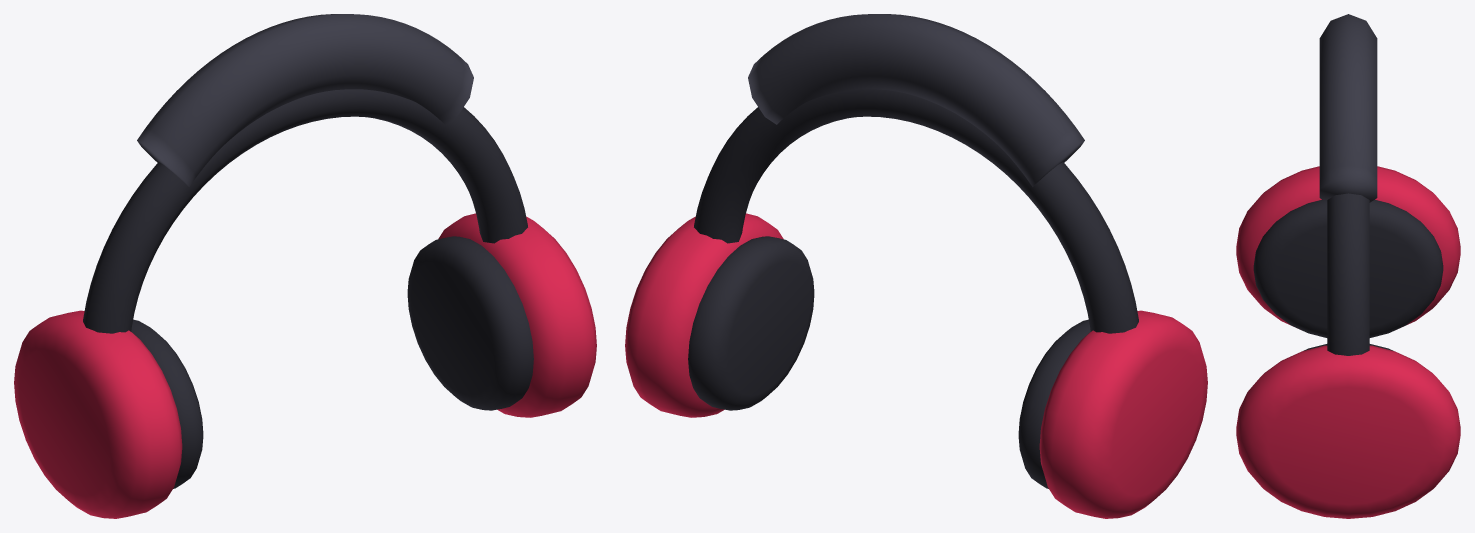
The model's file is item_headphones.fbx.
The picture shows the model from 3 angles, left to right: view 1: azimuth 30°, elevation 25°; view 2: azimuth 150°, elevation 25°; view 3: azimuth 270°, elevation 25°; orthographic projection. The views are drawn at different scales.
Visible parts, largest first — view 1: item_headphones; view 2: item_headphones; view 3: item_headphones.
Part boxes in pixels (bbox=[...]): item_headphones: bbox=[14, 14, 596, 518]; item_headphones: bbox=[625, 14, 1207, 518]; item_headphones: bbox=[1236, 14, 1460, 518].
Size of the model in its own units: 0.36 by 0.3114 by 0.1625.
